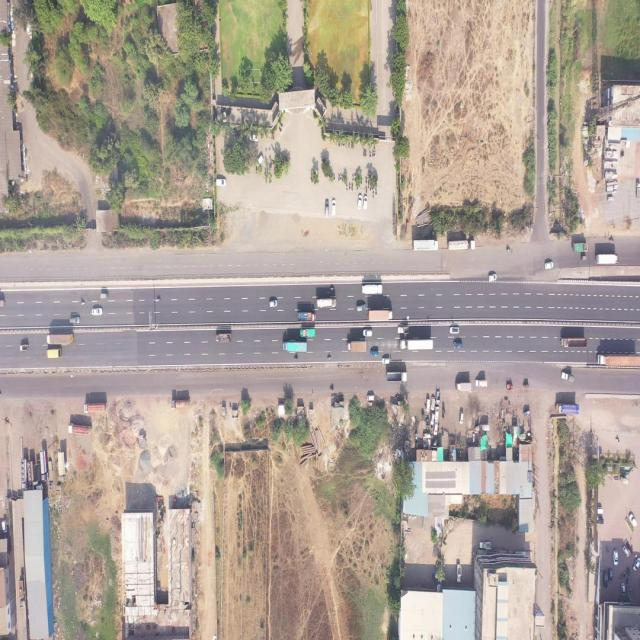3W: (480, 423, 489, 432), (524, 409, 531, 417), (100, 292, 109, 298), (581, 255, 587, 262), (507, 384, 513, 391), (523, 384, 529, 390)
Cars: (629, 512, 638, 527), (92, 308, 103, 317), (633, 557, 640, 571), (613, 549, 618, 566), (603, 571, 608, 588), (257, 155, 264, 167), (623, 546, 630, 558), (363, 329, 372, 338), (357, 194, 362, 210), (433, 420, 438, 436), (2, 521, 8, 534), (70, 317, 81, 324), (250, 134, 259, 142), (332, 199, 336, 217), (545, 261, 554, 269), (357, 304, 366, 312), (450, 326, 459, 334), (454, 341, 463, 349), (216, 179, 226, 186), (363, 196, 368, 210), (608, 569, 613, 583), (621, 582, 626, 596), (459, 411, 464, 425), (325, 200, 329, 217), (488, 274, 497, 281), (370, 350, 379, 357), (426, 398, 430, 413), (269, 300, 277, 307), (382, 358, 390, 365), (431, 397, 435, 411), (368, 394, 375, 402), (597, 507, 603, 515)
LCV: (561, 371, 575, 385), (479, 541, 491, 551), (456, 563, 462, 582), (475, 380, 487, 387), (435, 391, 441, 405), (398, 327, 409, 334), (636, 181, 640, 197), (20, 345, 29, 352)
M2W: (155, 297, 161, 303), (278, 125, 282, 132), (374, 145, 376, 157), (608, 239, 614, 243), (620, 152, 624, 158), (266, 168, 269, 175), (372, 188, 374, 198), (365, 175, 367, 185), (352, 182, 354, 192), (338, 172, 340, 182), (615, 438, 620, 442), (376, 188, 378, 197), (365, 185, 367, 194), (349, 182, 351, 191), (346, 183, 348, 192), (363, 149, 365, 158), (348, 141, 350, 150), (345, 140, 347, 149), (368, 181, 370, 189), (333, 173, 335, 181), (365, 149, 367, 157), (351, 141, 353, 149), (507, 248, 511, 252), (326, 292, 330, 296), (327, 356, 331, 360), (80, 302, 85, 305), (294, 357, 299, 360), (330, 287, 335, 290), (352, 174, 354, 181), (369, 151, 371, 158), (343, 141, 345, 148), (264, 167, 266, 174), (339, 142, 341, 148), (330, 386, 333, 390), (341, 173, 342, 182), (342, 174, 343, 182), (372, 149, 373, 157), (371, 144, 372, 151), (342, 142, 343, 148)
MAV: (596, 355, 640, 367), (401, 339, 434, 350), (448, 240, 476, 251), (39, 449, 48, 483), (413, 240, 438, 252), (68, 424, 93, 436), (84, 402, 107, 413), (596, 254, 618, 265), (47, 335, 73, 344), (21, 458, 28, 489), (18, 581, 26, 608), (362, 284, 382, 294), (171, 399, 190, 409)
Truck: (556, 402, 579, 415), (283, 342, 308, 353), (561, 338, 587, 348), (368, 310, 393, 320), (347, 342, 366, 352), (298, 313, 316, 323), (316, 299, 336, 308), (387, 372, 407, 381), (301, 328, 316, 339), (46, 349, 62, 359), (456, 381, 472, 391), (573, 242, 588, 252), (216, 334, 232, 343)
